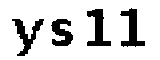1: (82, 6, 112, 51), (117, 8, 144, 49)
s: (48, 17, 78, 52)
y: (9, 14, 48, 60)
